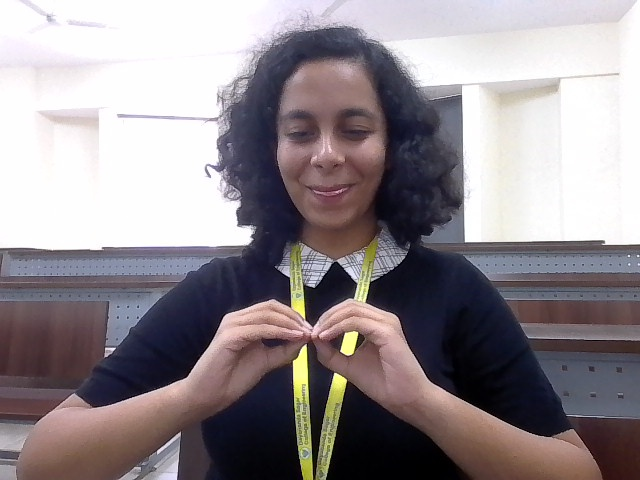B: (135, 235, 489, 465)
